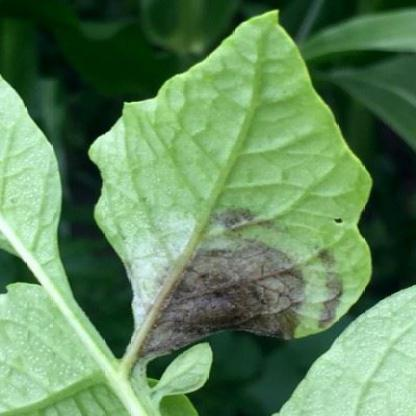Potato leaf late blight: (84, 13, 375, 373)
